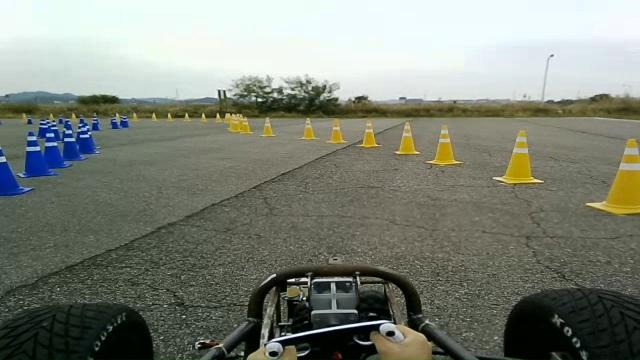blue cone: (16, 131, 58, 178), (0, 146, 34, 195), (42, 132, 72, 168), (61, 130, 87, 160), (76, 126, 99, 154)
yellow cone: (585, 138, 639, 215), (492, 129, 544, 184), (425, 124, 463, 166), (394, 121, 421, 155), (356, 118, 382, 148), (326, 118, 348, 143), (298, 117, 320, 140), (260, 116, 276, 136), (332, 118, 340, 128)
